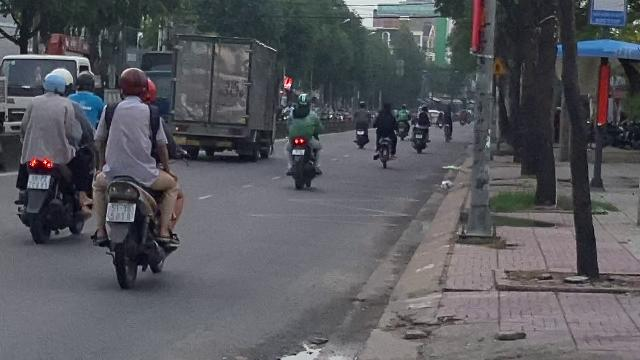helmet: (117, 66, 151, 100), (42, 71, 68, 96), (75, 71, 97, 93)
licenseplate: (107, 202, 135, 222), (27, 174, 49, 188)
motorcyclist: (88, 64, 186, 288), (10, 68, 96, 243)
